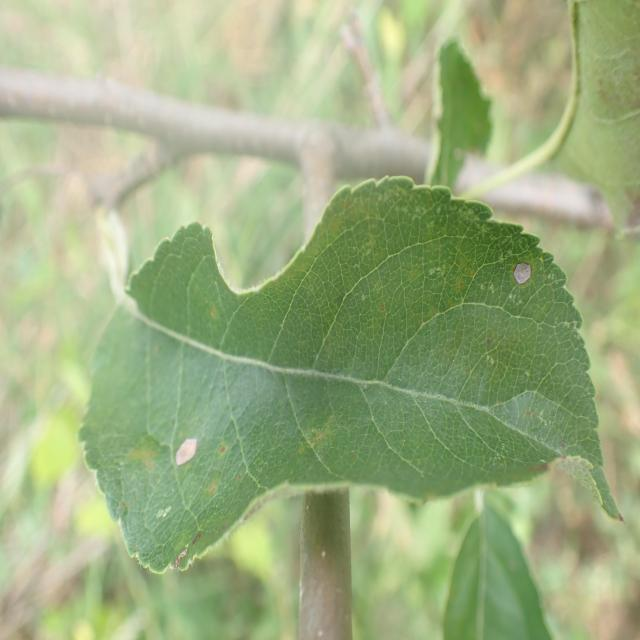frog-eye-leaf-spot: (77, 176, 624, 578)
